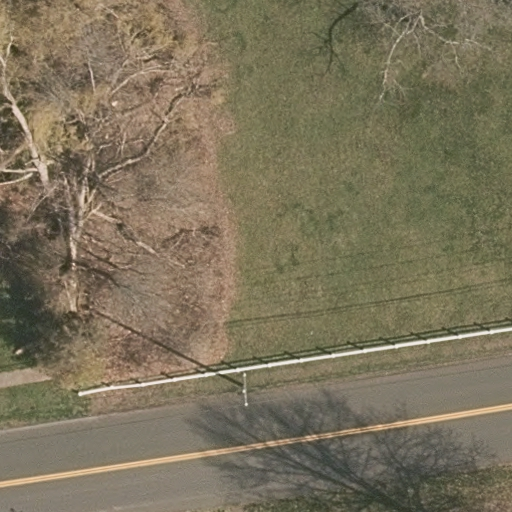DT: (237, 369, 252, 405)
